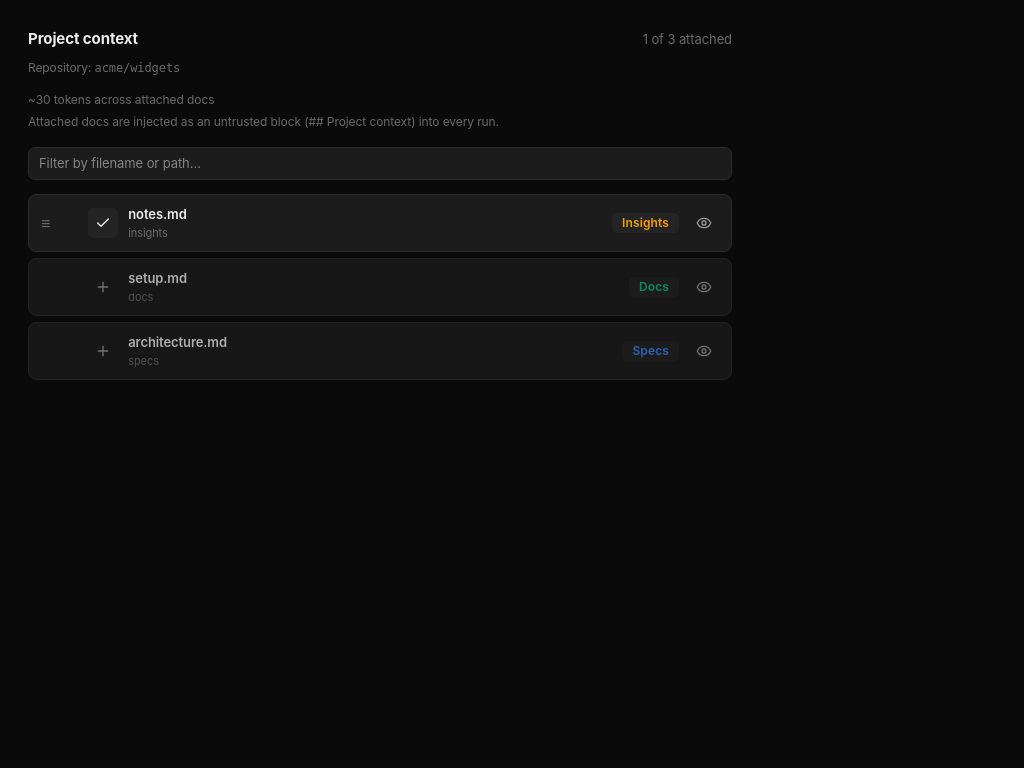
Test: ContextTab › preview drawer shows exactly the four metadata items and an attach toggle (AC-13)
Click the button named "Preview notes.md" at [704, 223], box [689,208,719,238]
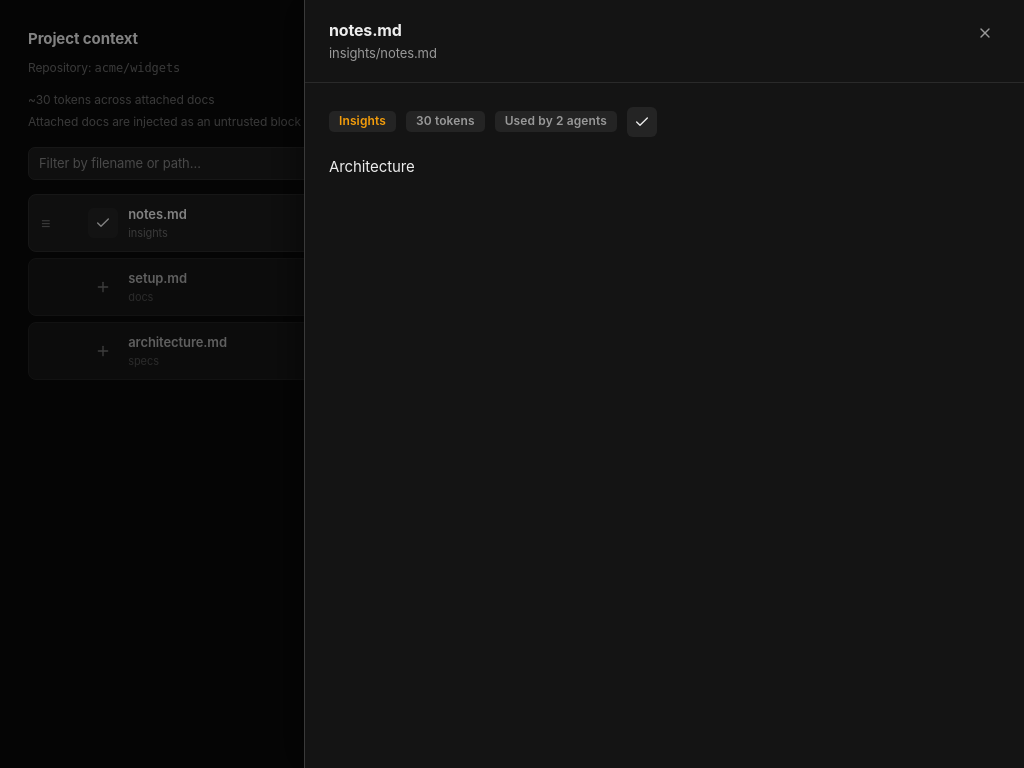
Check: the dialog is shown
Check: the text "Insights" is shown, box [329,111,396,132]
Check: the text "30 tokens" is shown, box [406,111,485,132]
